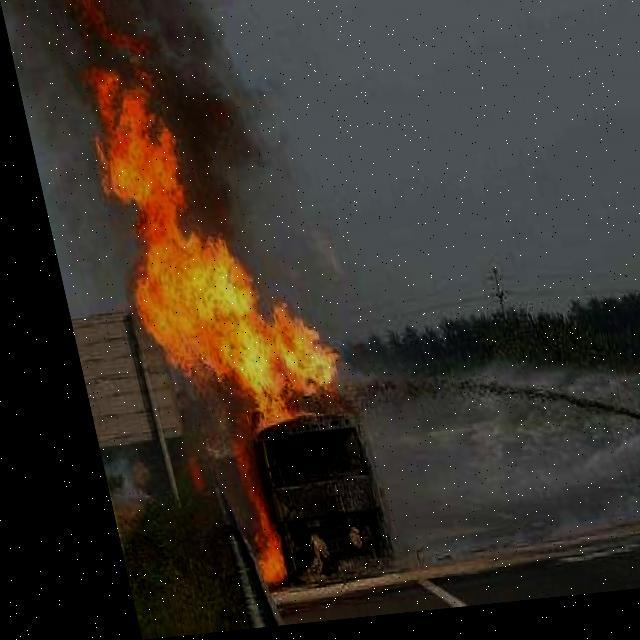Fire: (70, 29, 363, 592)
